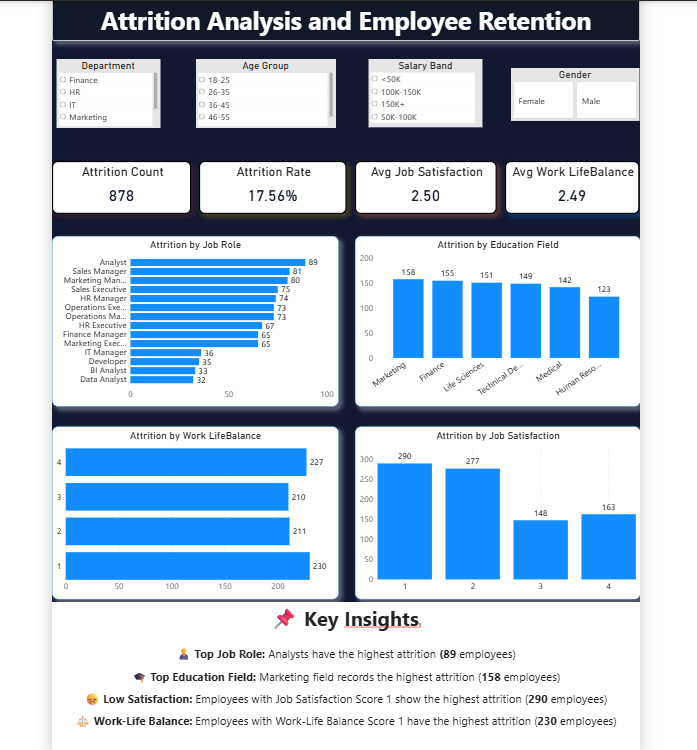

This screenshot's page, from the dashboard's own definition file:
{"tool":"powerbi","page":{"name":"Page 2","canvas":[1400,1300],"ordinal":1},"visuals":[{"type":"textbox","box":[0,0,1400,95],"z":0},{"type":"card","title":"Attrition Count","fields":{"Values":["HR_Data.Attrition Count"]},"box":[0,285,332.5,125],"z":1000},{"type":"card","title":"Attrition Rate","fields":{"Values":["HR_Data.Attrition Rate %"]},"box":[350,285,350,125],"z":2000},{"type":"card","title":"Avg Job Satisfaction","fields":{"Values":["HR_Data.Avg Job Satisfaction"]},"box":[717.5,285,337.5,125],"z":3000},{"type":"card","title":"Avg Work LifeBalance","fields":{"Values":["HR_Data.Avg work lifebalance"]},"box":[1080,285,320,125],"z":4000},{"type":"barChart","title":"Attrition by Job Role","fields":{"Category":["HR_Data.JobRole"],"Y":["HR_Data.Attrition Count"]},"box":[0,457.5,682.5,385],"z":5000},{"type":"columnChart","title":"Attrition by Education Field","fields":{"Y":["HR_Data.Attrition Count"],"Category":["HR_Data.EducationField"]},"box":[720,457.5,680,385],"z":6000},{"type":"clusteredBarChart","title":"Attrition  by Work LifeBalance","fields":{"Y":["HR_Data.Attrition Count"],"Category":["HR_Data.WorkLifeBalance"]},"box":[0,887.5,682.5,412.5],"z":7000},{"type":"clusteredColumnChart","title":"Attrition by Job Satisfaction","fields":{"Category":["HR_Data.JobSatisfaction"],"Y":["HR_Data.Attrition Count"]},"box":[720,887.5,680,412.5],"z":8000},{"type":"listSlicer","fields":{"Values":["HR_Data.Department"]},"box":[0,96.7,246.7,163.3],"z":9000},{"type":"listSlicer","fields":{"Values":["HR_Data.Age Group"]},"box":[333.3,96.7,333.3,163.3],"z":10000},{"type":"advancedSlicerVisual","fields":{"Values":["HR_Data.Gender"]},"box":[1080,120,306.7,126.7],"z":11000},{"type":"listSlicer","fields":{"Values":["HR_Data.Salary Band"]},"box":[750,96.7,273.3,163.3],"z":12000}]}

Visuals, with their boxes on the page's 1400x1300 design canvas (x1, y1, x2, y2). These are canvas units, not pixel positions in the 697x750 screenshot, which may show the page scaled, cropped or inside an application window:
textbox: left=0, top=0, right=1400, bottom=95
"Attrition Count" card: left=0, top=285, right=332, bottom=410
"Attrition Rate" card: left=350, top=285, right=700, bottom=410
"Avg Job Satisfaction" card: left=718, top=285, right=1055, bottom=410
"Avg Work LifeBalance" card: left=1080, top=285, right=1400, bottom=410
"Attrition by Job Role" barChart: left=0, top=458, right=682, bottom=842
"Attrition by Education Field" columnChart: left=720, top=458, right=1400, bottom=842
"Attrition  by Work LifeBalance" clusteredBarChart: left=0, top=888, right=682, bottom=1300
"Attrition by Job Satisfaction" clusteredColumnChart: left=720, top=888, right=1400, bottom=1300
listSlicer - HR_Data.Department: left=0, top=97, right=247, bottom=260
listSlicer - HR_Data.Age Group: left=333, top=97, right=667, bottom=260
advancedSlicerVisual - HR_Data.Gender: left=1080, top=120, right=1387, bottom=247
listSlicer - HR_Data.Salary Band: left=750, top=97, right=1023, bottom=260
